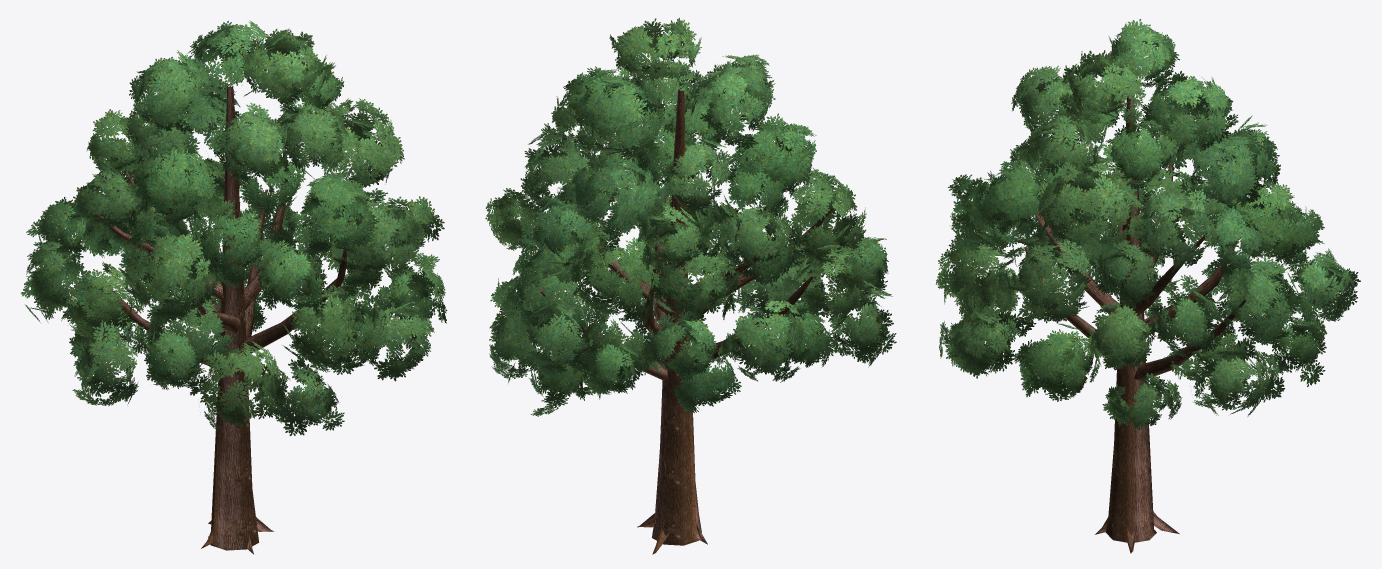
File: mm7_deco_7tree28.glb
3 views of the same model, side by side, from view 1: azimuth 30°, elevation 25°; view 2: azimuth 150°, elevation 25°; view 3: azimuth 270°, elevation 25° (orthographic). The views are drawn at different scales.
Visible parts, largest first — view 1: Tree; view 2: Tree; view 3: Tree.
Part boxes in pixels (box(x1,y1,x2,y2)): Tree: box(20, 20, 447, 554); Tree: box(485, 17, 896, 554); Tree: box(935, 18, 1360, 553).
Bounding box in the file's own units: 6.25 × 7.83 × 6.21.
2 materials, 2 textured.
